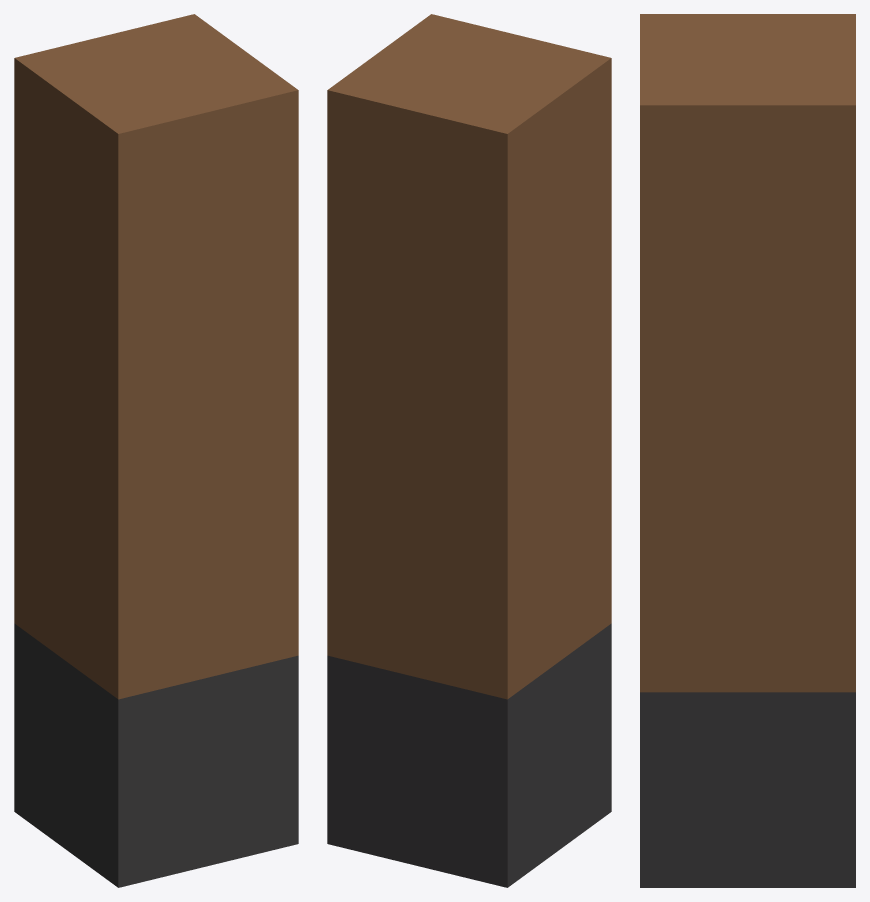
Rendered from Torch1.fbx.
The picture shows the model from 3 angles, left to right: view 1: azimuth 30°, elevation 25°; view 2: azimuth 150°, elevation 25°; view 3: azimuth 270°, elevation 25°; orthographic projection. The views are drawn at different scales.
Visible parts, largest first — view 1: Cube; view 2: Cube; view 3: Cube.
Part boxes in pixels (x1,y1,x2,y2): Cube: (14,14,298,887); Cube: (327,14,611,887); Cube: (640,14,855,887).
Size of the model in its own units: 200 by 800 by 200.
